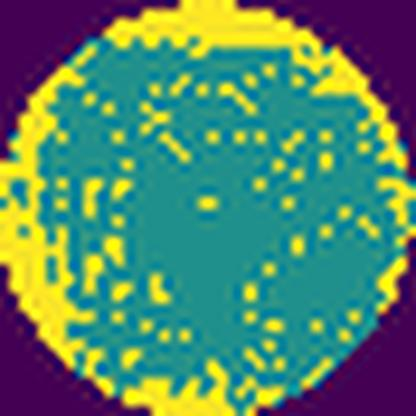Edge-Loc: (95, 0, 416, 166), (0, 53, 83, 372), (100, 366, 280, 416)
